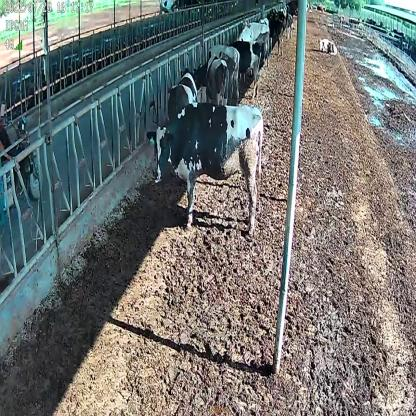cow: (147, 101, 265, 239), (166, 67, 198, 122), (203, 52, 230, 105), (316, 35, 340, 57)
